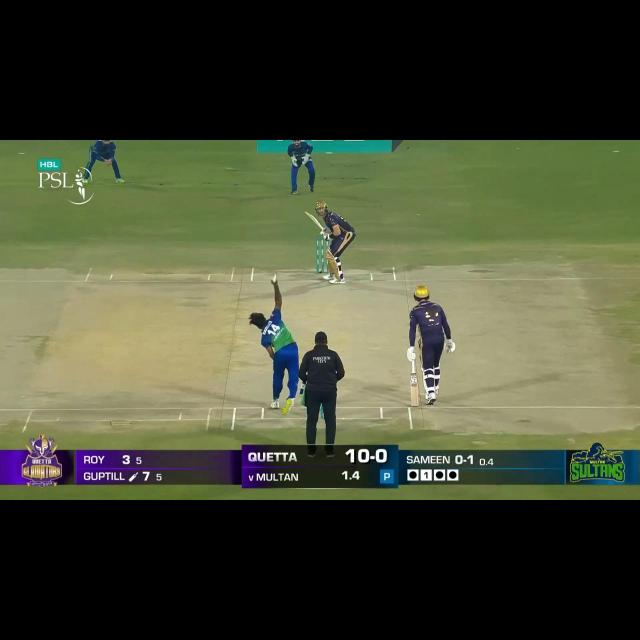bat: (408, 373, 423, 408), (304, 212, 324, 230)
toe: (409, 402, 422, 408), (300, 210, 310, 215)
